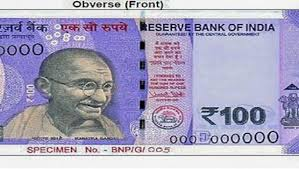hundred: (3, 33, 287, 137)
